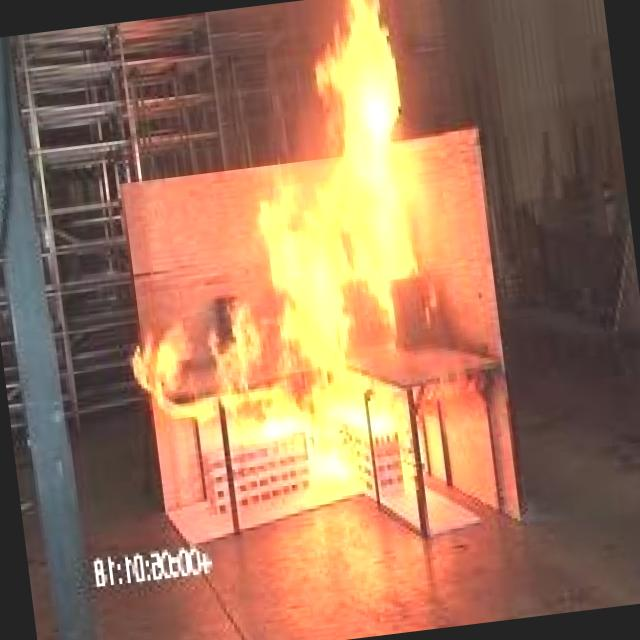fire: (86, 0, 493, 531)
